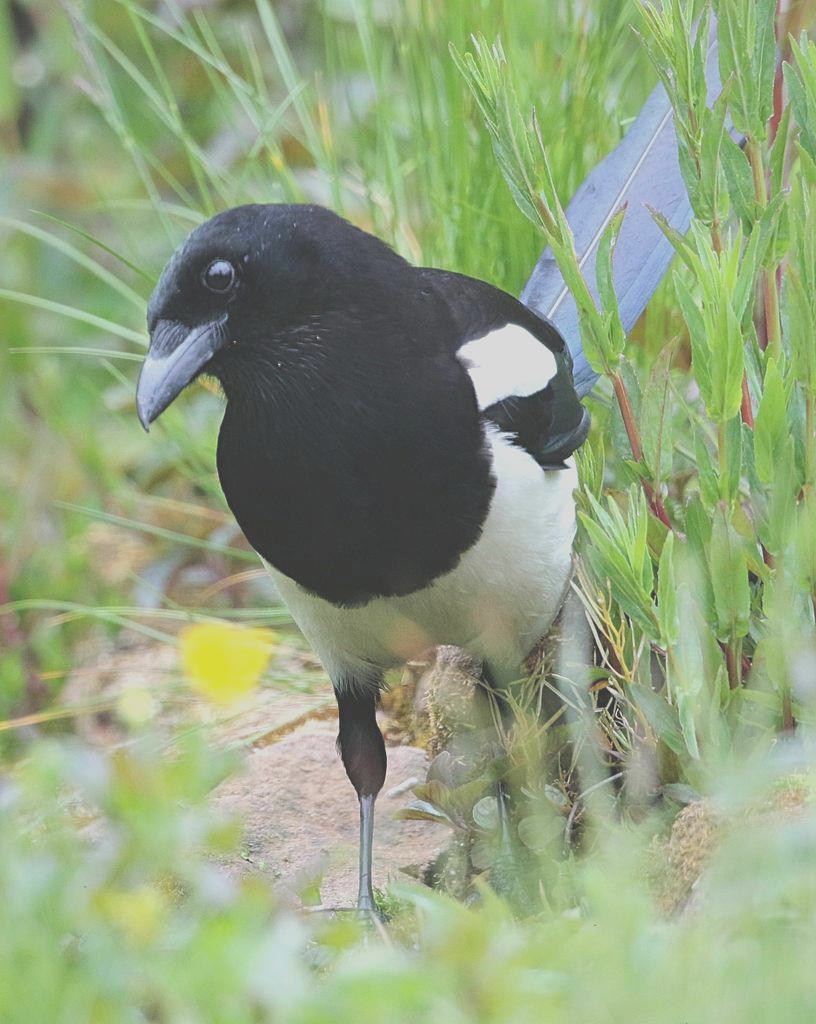PicaPica: (135, 0, 785, 931)
